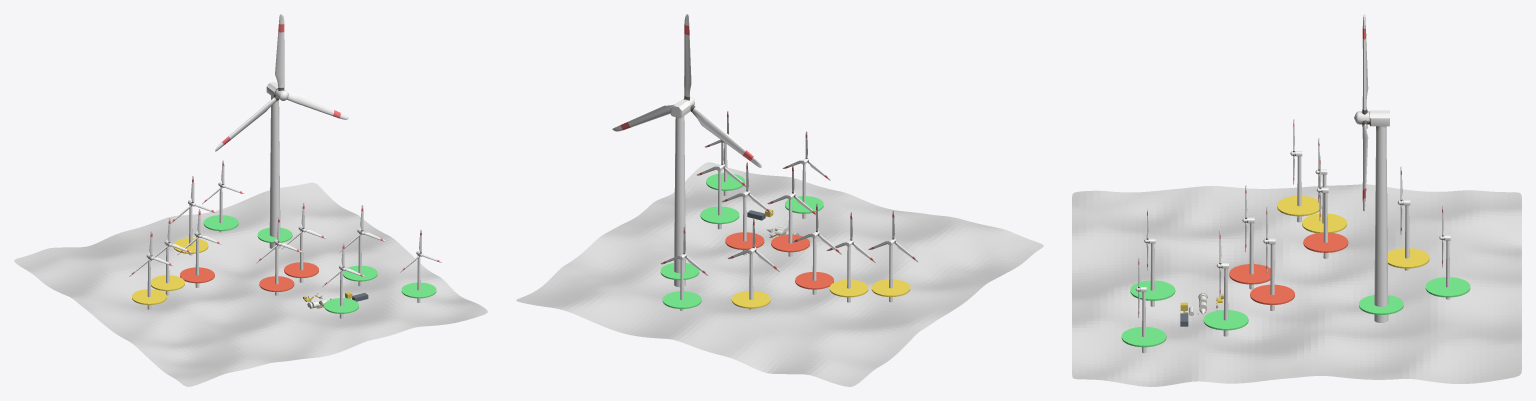
Rendered from Stage1-WindFarm.fbx.
3 renders of one model, left to right at view 1: azimuth 30°, elevation 25°; view 2: azimuth 150°, elevation 25°; view 3: azimuth 270°, elevation 25°, orthographic. The views are drawn at different scales.
Parts seen in each view (by area): view 1: WF_Terrain, Windturbine Blades_1, Windturbine Support_0, WF_BaseDisc_green_07, WF_BaseDisc_green_06, WF_BaseDisc_red_11, WF_BaseDisc_red_10, WF_BaseDisc_red_RED, WF_BaseDisc_yellow_04, WF_BaseDisc_green_02, WF_BaseDisc_yellow_09, WF_BaseDisc_green_08; view 2: WF_Terrain, Windturbine Support_0, Windturbine Blades_1, WF_BaseDisc_green_06, WF_BaseDisc_green_08, WF_BaseDisc_yellow_09, WF_BaseDisc_yellow_05, WF_BaseDisc_red_11, WF_BaseDisc_yellow_04, WF_BaseDisc_red_RED, WF_BaseDisc_red_10, WF_BaseDisc_green_07 (+1 smaller); view 3: WF_Terrain, Windturbine Support_0, Windturbine Blades_1, WF_BaseDisc_red_11, WF_BaseDisc_green_06, WF_BaseDisc_green_08, WF_BaseDisc_red_10, WF_BaseDisc_green_07, WF_BaseDisc_yellow_04, WF_BaseDisc_yellow_05, WF_BaseDisc_red_RED, WF_BaseDisc_green_02 (+2 smaller).
Part boxes in pixels (x1,y1,x2,y2): WF_Terrain: [14, 182, 487, 386]; Windturbine Blades_1: [215, 14, 348, 151]; Windturbine Support_0: [266, 82, 280, 249]; WF_BaseDisc_green_07: [401, 282, 436, 298]; WF_BaseDisc_green_06: [203, 215, 238, 230]; WF_BaseDisc_red_11: [180, 267, 214, 283]; WF_BaseDisc_red_10: [284, 262, 318, 278]; WF_BaseDisc_red_RED: [259, 276, 294, 291]; WF_BaseDisc_yellow_04: [132, 289, 166, 304]; WF_BaseDisc_green_02: [324, 298, 358, 313]; WF_BaseDisc_yellow_09: [151, 275, 184, 290]; WF_BaseDisc_green_08: [343, 265, 377, 281]; WF_Terrain: [516, 162, 1043, 386]; Windturbine Support_0: [670, 99, 690, 287]; Windturbine Blades_1: [612, 14, 761, 167]; WF_BaseDisc_green_06: [662, 291, 701, 308]; WF_BaseDisc_green_08: [700, 206, 739, 224]; WF_BaseDisc_yellow_09: [829, 279, 868, 297]; WF_BaseDisc_yellow_05: [731, 291, 770, 308]; WF_BaseDisc_red_11: [795, 272, 833, 289]; WF_BaseDisc_yellow_04: [871, 279, 910, 296]; WF_BaseDisc_red_RED: [771, 234, 809, 252]; WF_BaseDisc_red_10: [725, 232, 764, 249]; WF_BaseDisc_green_07: [706, 173, 744, 190]; WF_Terrain: [1072, 184, 1521, 386]; Windturbine Support_0: [1370, 110, 1389, 322]; Windturbine Blades_1: [1354, 14, 1369, 210]; WF_BaseDisc_red_11: [1303, 232, 1348, 252]; WF_BaseDisc_green_06: [1425, 277, 1470, 297]; WF_BaseDisc_green_08: [1203, 310, 1248, 330]; WF_BaseDisc_red_10: [1250, 284, 1294, 304]; WF_BaseDisc_green_07: [1121, 327, 1166, 347]; WF_BaseDisc_yellow_04: [1277, 196, 1321, 216]; WF_BaseDisc_yellow_05: [1387, 248, 1429, 268]; WF_BaseDisc_red_RED: [1229, 264, 1270, 284]; WF_BaseDisc_green_02: [1130, 280, 1175, 300].
Size of the model in its own units: 80 by 61.75 by 80.
17 materials, 1 textured.
